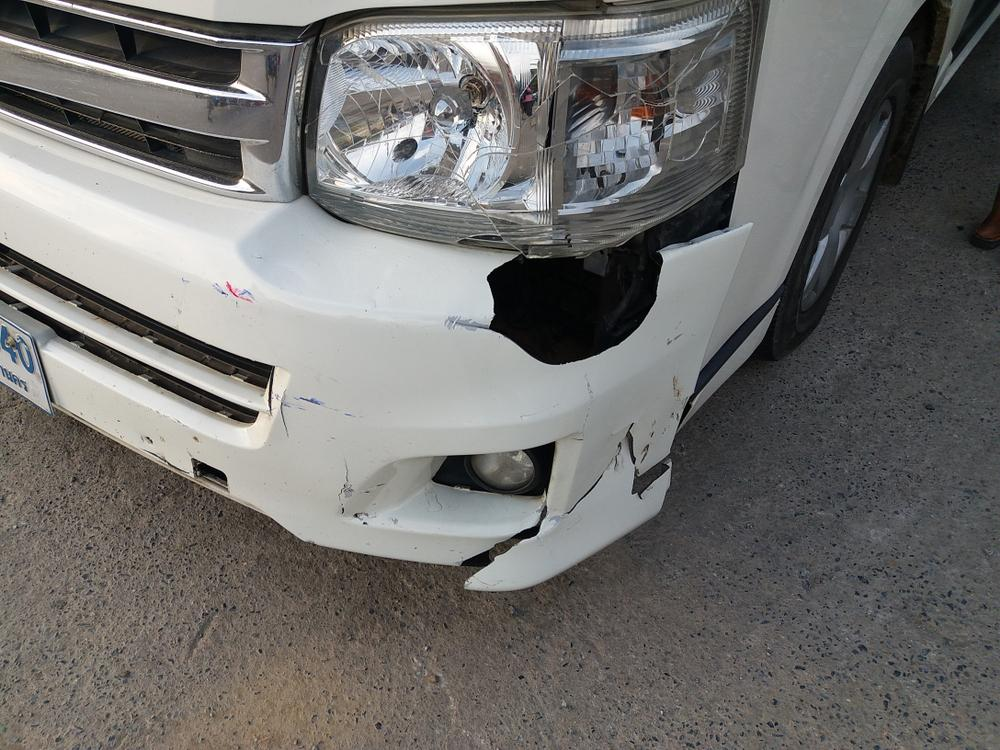crack: (446, 223, 667, 367), (566, 422, 673, 519), (455, 499, 557, 587), (266, 365, 276, 422)
lamp broken: (309, 0, 766, 253)
